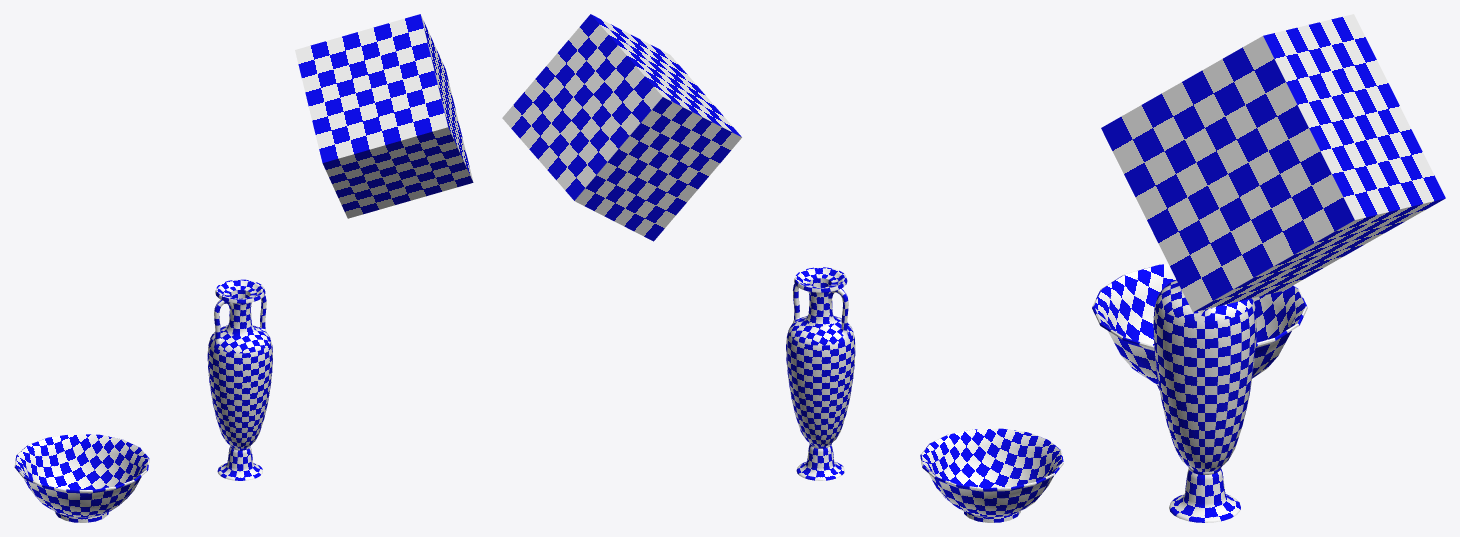
Rendered from sahneV0.1.obj.
3 renders of one model, left to right at view 1: azimuth 30°, elevation 25°; view 2: azimuth 150°, elevation 25°; view 3: azimuth 270°, elevation 25°, orthographic. The views are drawn at different scales.
Visible parts, largest first — view 1: Cube.001, amphora_01, bowl_01; view 2: Cube.001, amphora_01, bowl_01; view 3: Cube.001, amphora_01, bowl_01.
Boxes of the visible parts, left/top/right/bottom form: Cube.001: left=295, top=14, right=473, bottom=218; amphora_01: left=207, top=279, right=272, bottom=480; bowl_01: left=14, top=434, right=149, bottom=522; Cube.001: left=502, top=14, right=741, bottom=241; amphora_01: left=786, top=267, right=855, bottom=480; bowl_01: left=920, top=428, right=1063, bottom=522; Cube.001: left=1101, top=14, right=1445, bottom=312; amphora_01: left=1153, top=279, right=1256, bottom=522; bowl_01: left=1092, top=264, right=1307, bottom=390.
Size of what is drawn, in the model's own units: 4.14 by 3.32 by 1.7.
